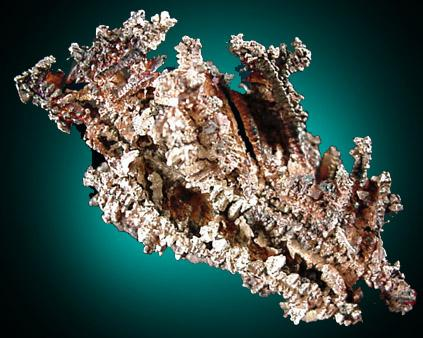silver: (15, 10, 416, 326)
